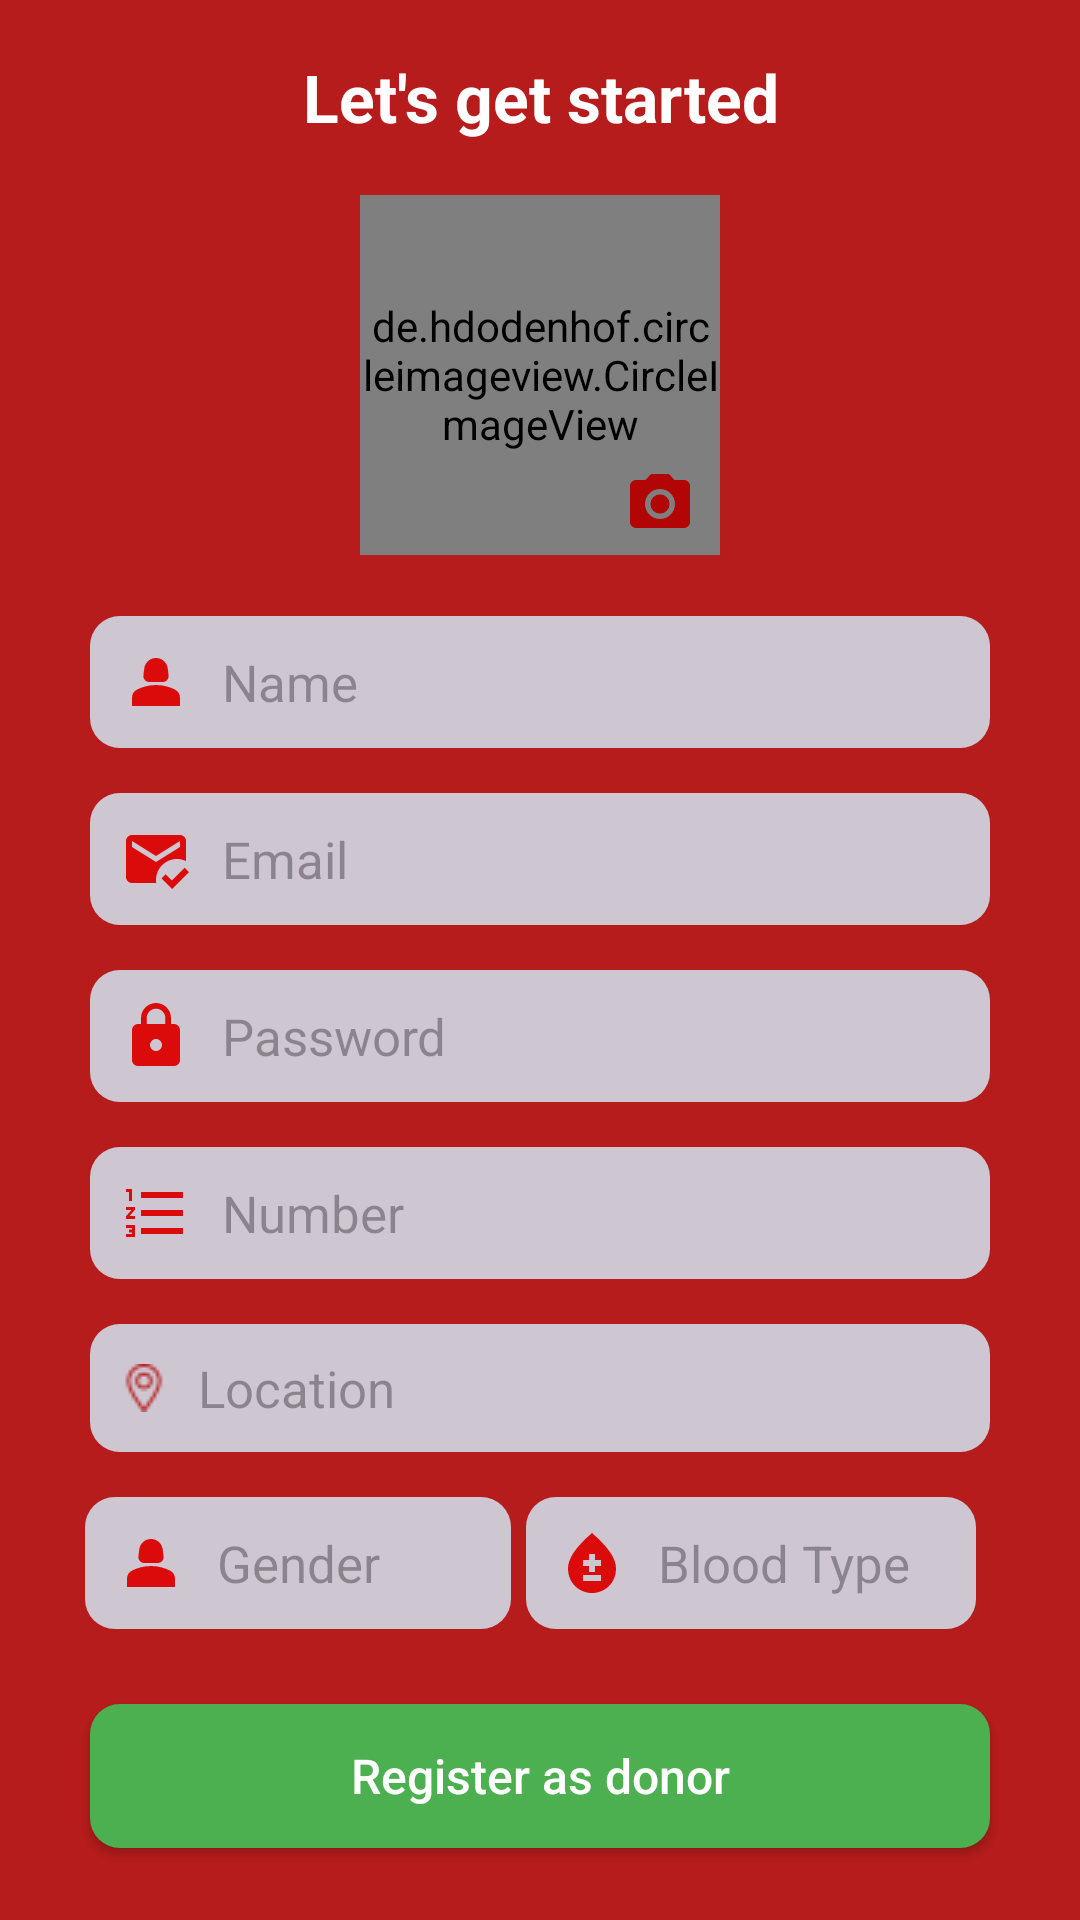

Named icons in this screenshot (1080px×1920px) and their bounding boxes, (x1, y1, x2, y2):
photo camera: (630, 474, 690, 528)
